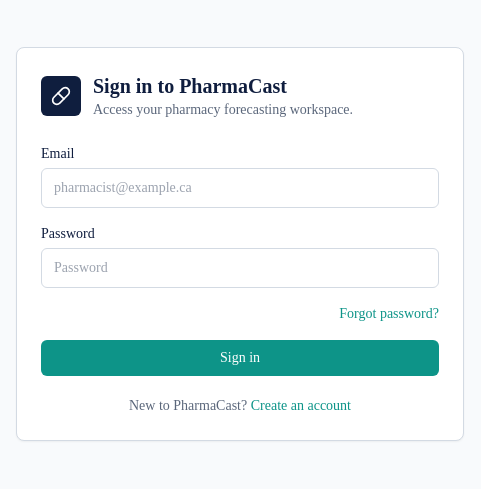
Test case: auth pages › shows invalid credentials on failed login
The image size is (481, 489).
Type "owner@example.ca" into the field labelled "Email". click: (240, 188)
box: [41,168,439,208]
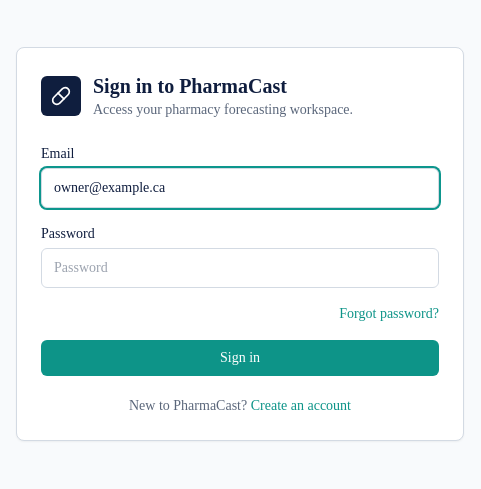
Type "wrong-password" into the password field labelled "Password". click: (240, 268)
box: [41,248,439,288]
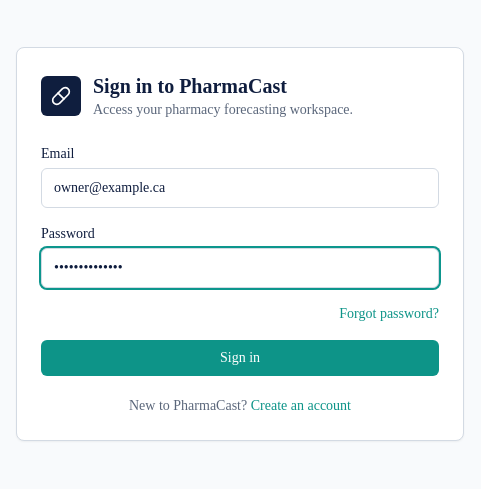
Click the button "Sign in". click: click(240, 358)
box: [41,340,439,376]
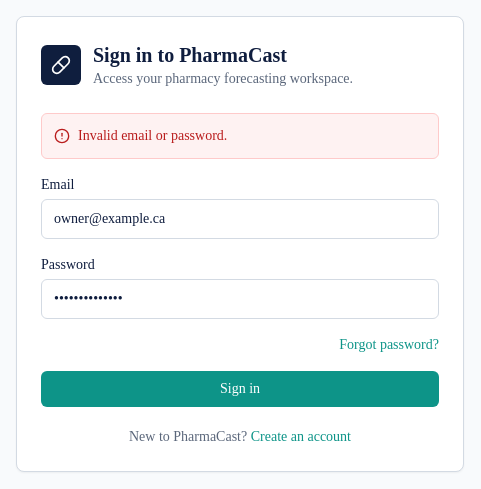
expect the message reads "Invalid email or password.": met, box [78,128,227,143]
